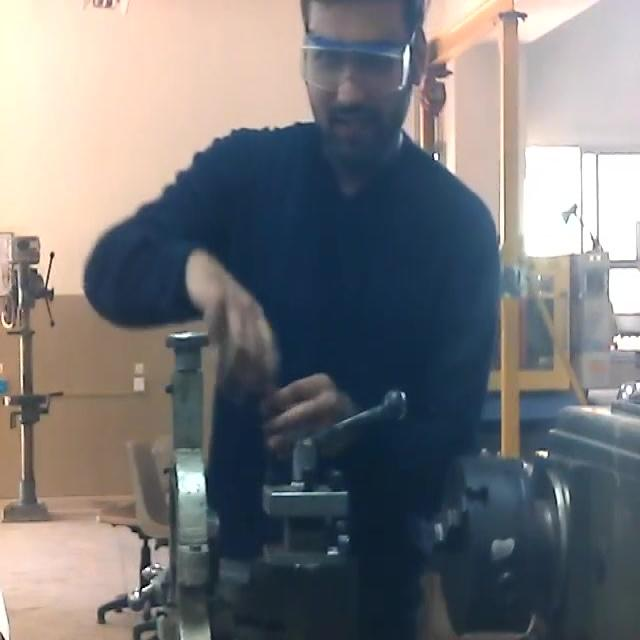googles: (300, 32, 412, 103)
